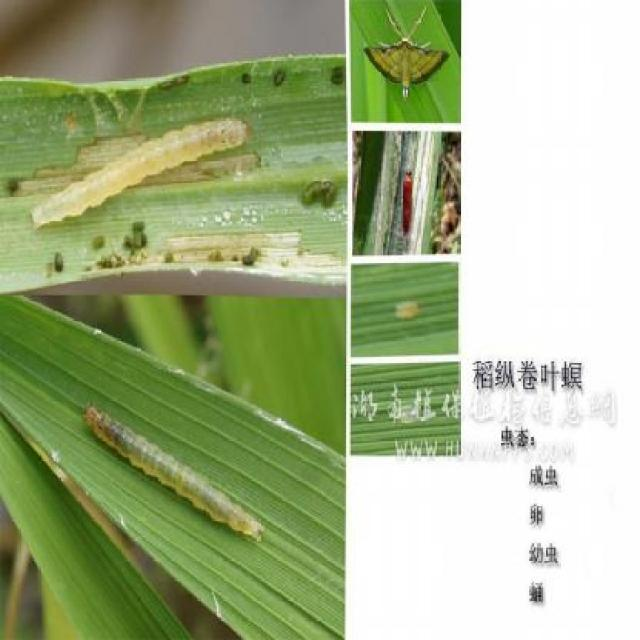leaf-folder: (68, 379, 269, 563), (18, 113, 255, 230), (398, 152, 422, 240), (385, 289, 429, 326)
